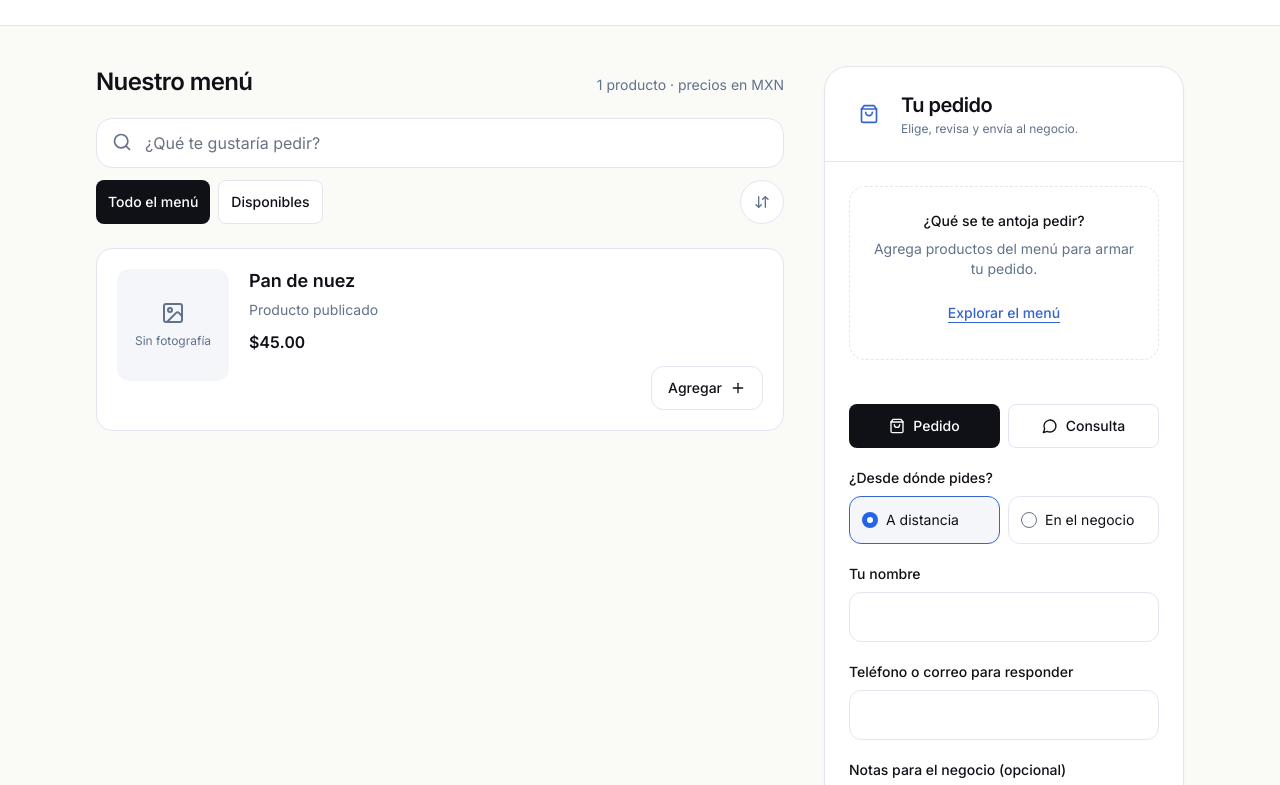
Scenario: sends quantities, origin and notes to the Kova inbox as a pending request, without creating an order or charging
The width and height of the screenshot is (1280, 785).
(page scrolled)
Click the button with aria-label "Agregar Pan de nuez al pedido" at (707, 388), box [651, 366, 763, 410]
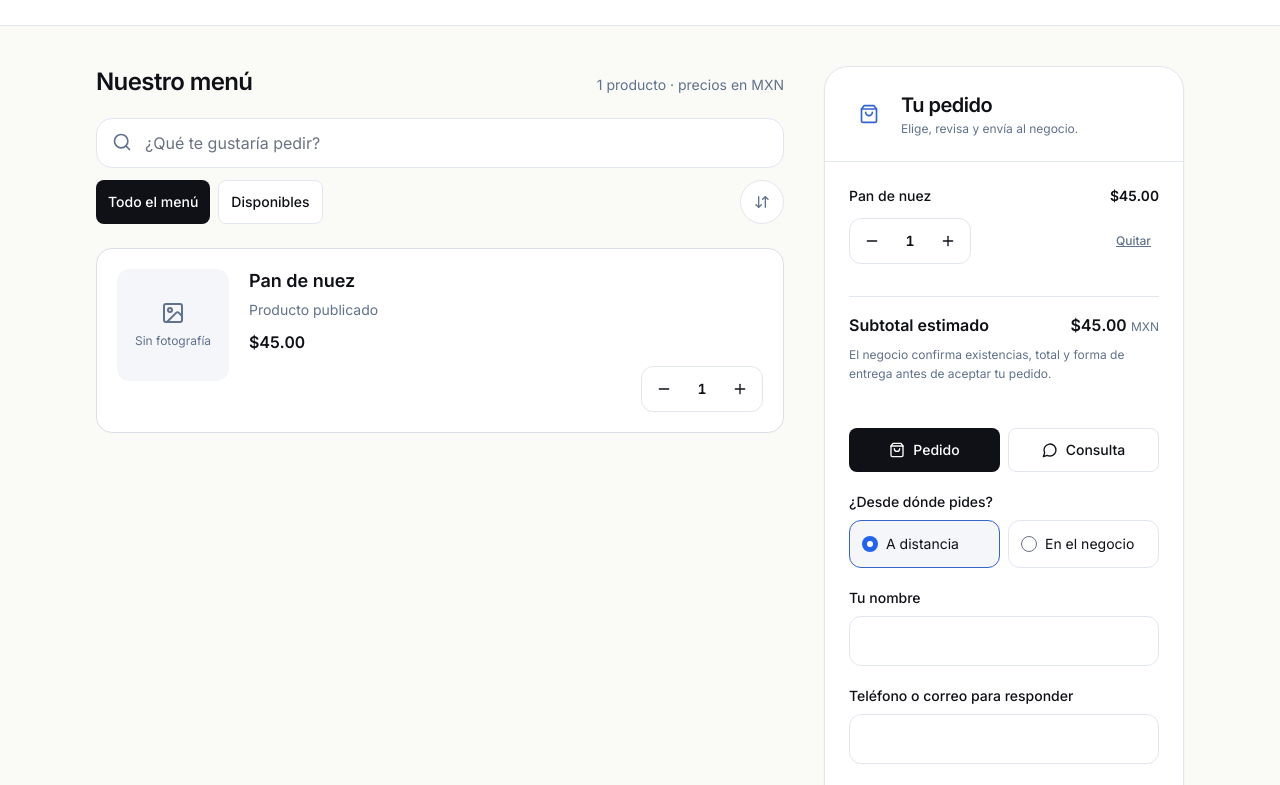
Click the 2nd button named "Agregar uno de Pan de nuez" at (740, 389), box [718, 367, 762, 411]
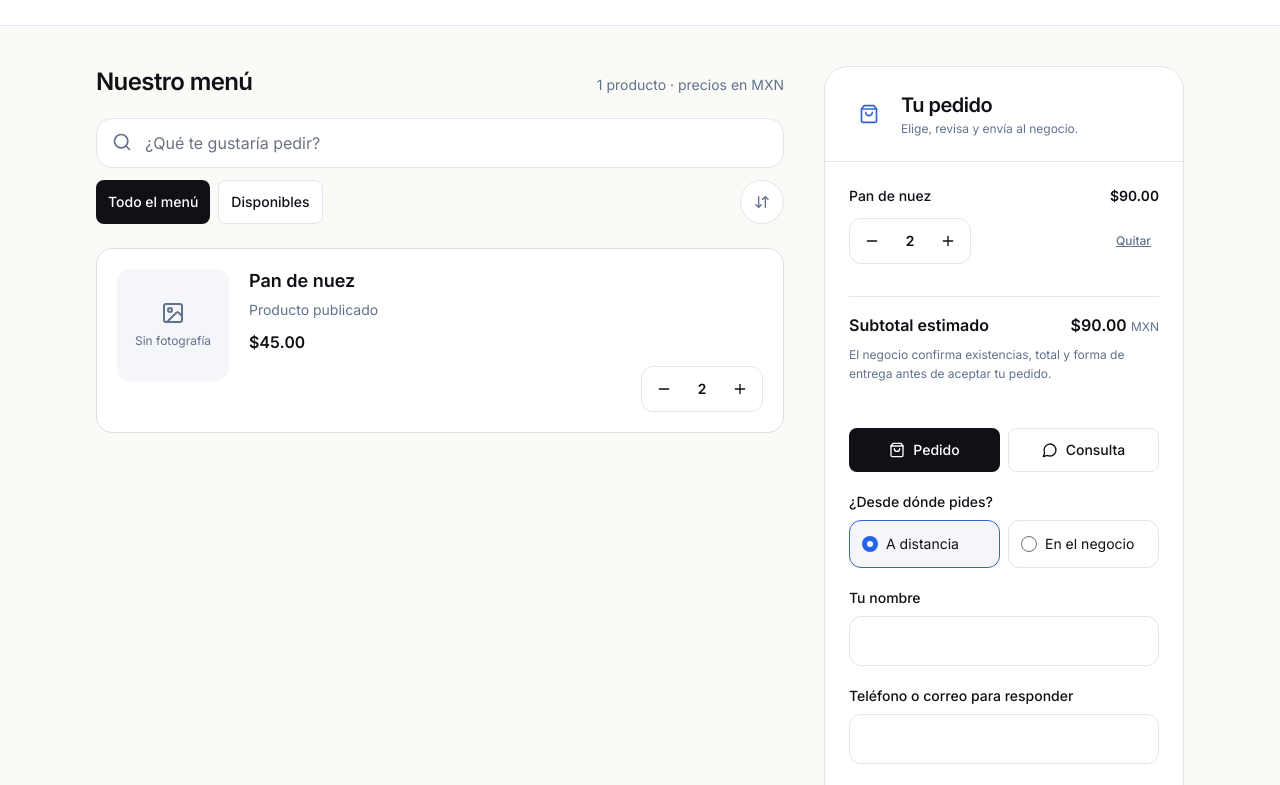
Type "Ana" into the field labelled "Tu nombre" at (1004, 640), box [849, 616, 1159, 666]
Type "ana@example.com" into the field labelled "Teléfono o correo para responder" at (1004, 738), box [849, 714, 1159, 764]
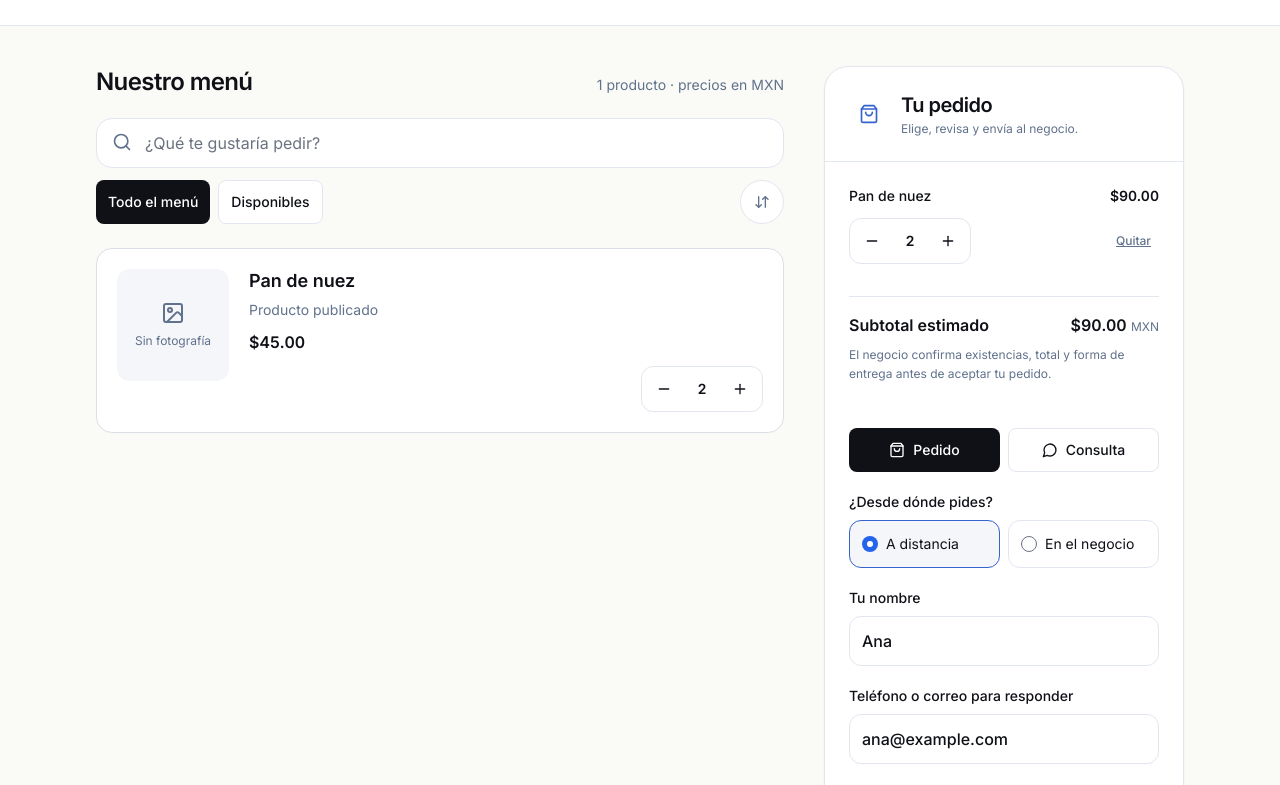
Click the radio button labelled "En el negocio" at (1029, 544), box [1021, 536, 1037, 552]
(page scrolled)
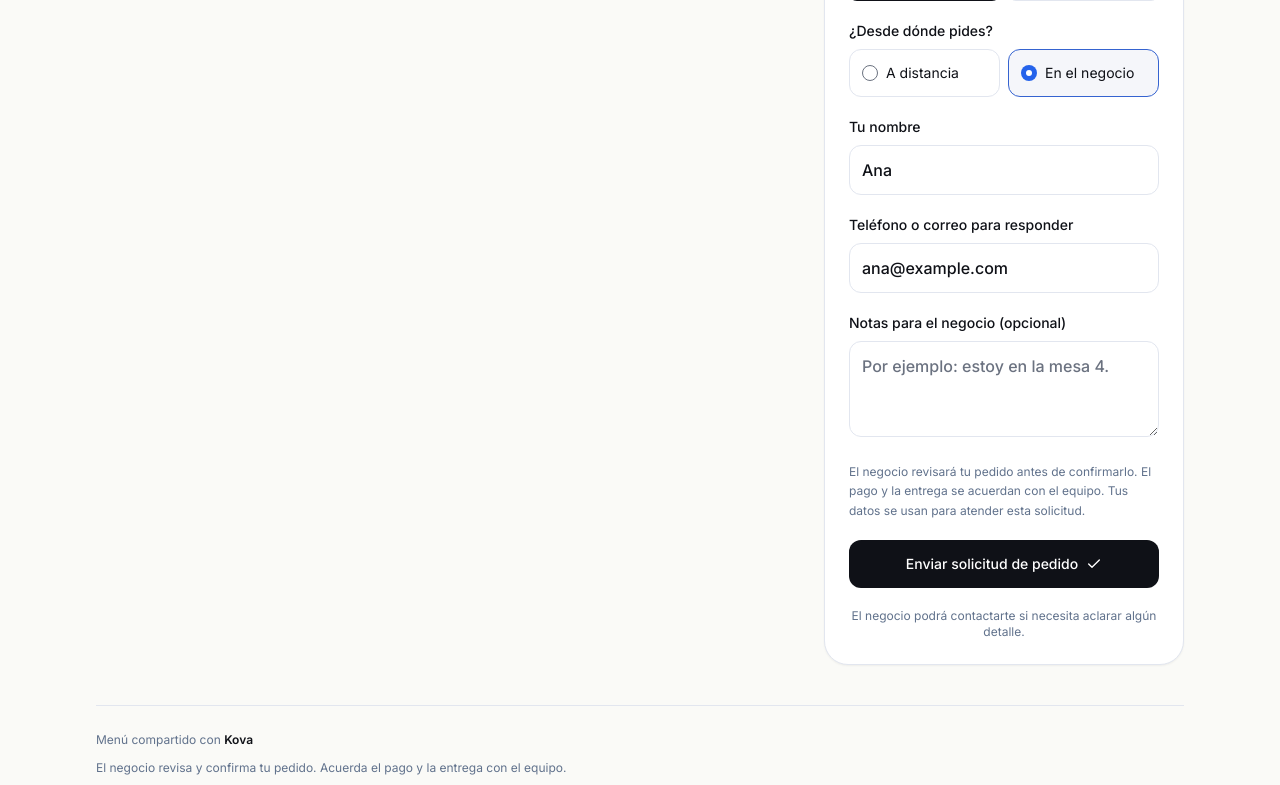
Type "Mesa 4" into the text box labelled "Notas para el negocio (opcional)" at (1004, 388), box [849, 340, 1159, 436]
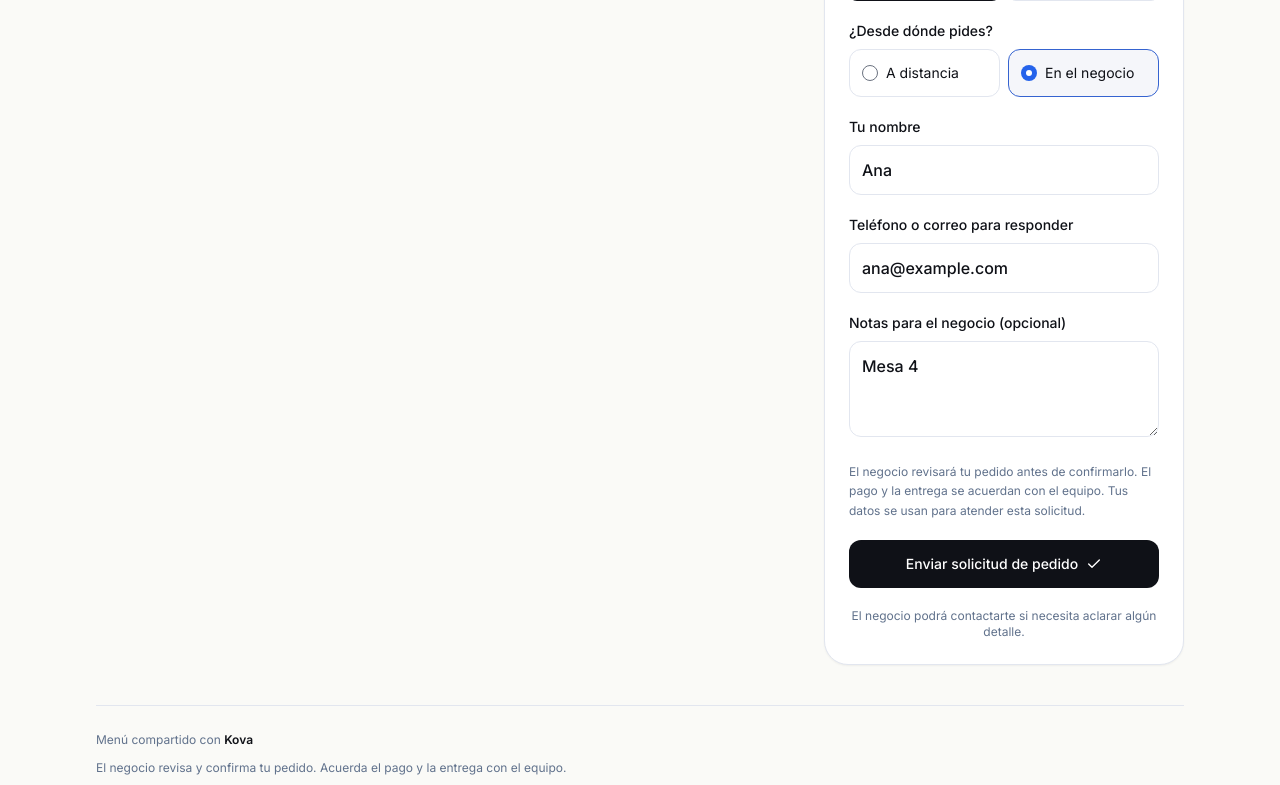
Click the button "Enviar solicitud de pedido" at (1004, 564), box [849, 540, 1159, 588]
(page scrolled)
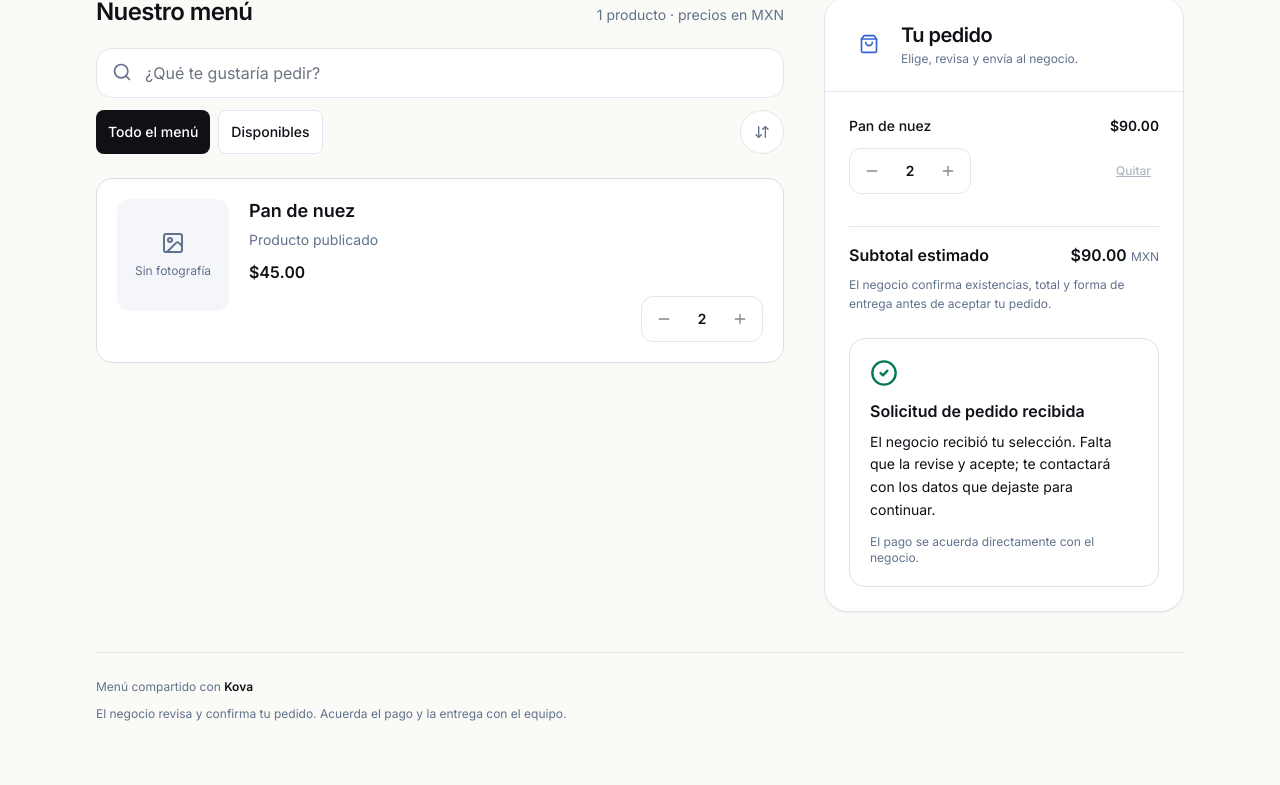
Now the text "Solicitud de pedido recibida" is shown, box [870, 400, 1085, 420]
Now the text "Falta que la revise y acepte" is shown, box [870, 432, 1112, 518]
Now the 2nd button named "Agregar uno de Pan de nuez" is disabled, box [718, 297, 762, 341]
